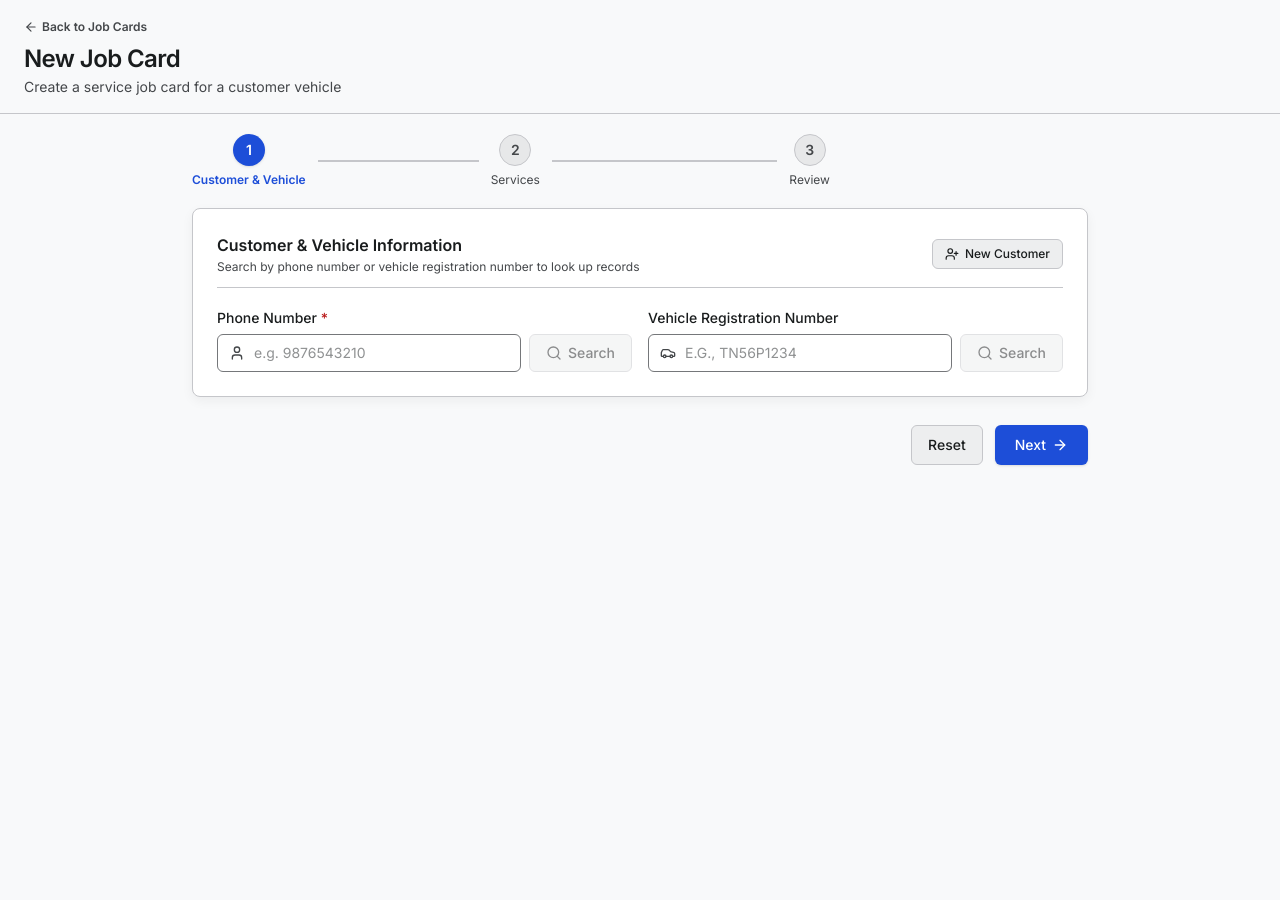
NewJobCard Component Workflow › displays create customer form when phone lookup returns no match
Type "9999999999" into the field with placeholder "e.g. 9876543210" at {"x": 369, "y": 353}, box top-left (217, 334), bottom-right (521, 372)
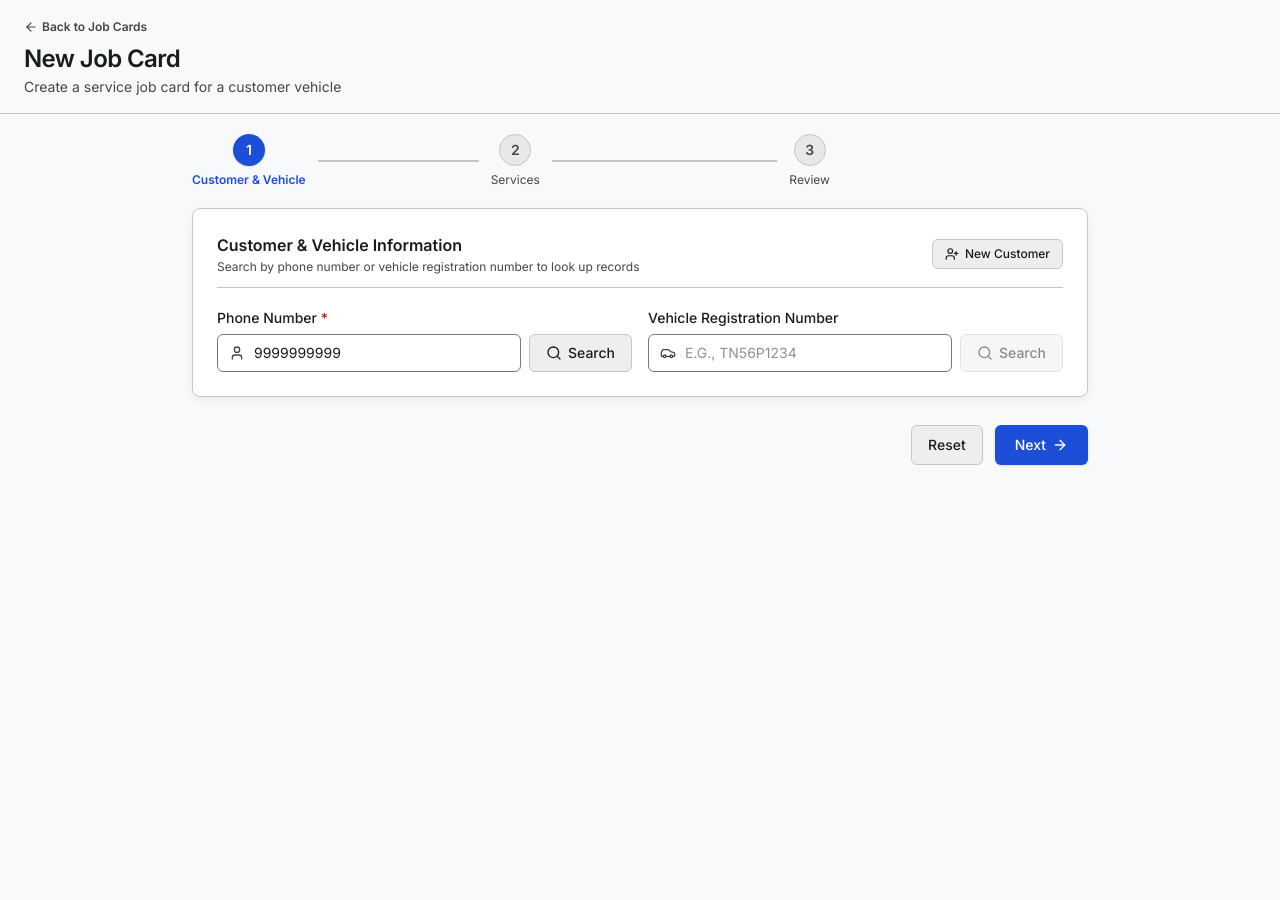
Click the 1st button "Search" at {"x": 580, "y": 353}, box top-left (529, 334), bottom-right (632, 372)
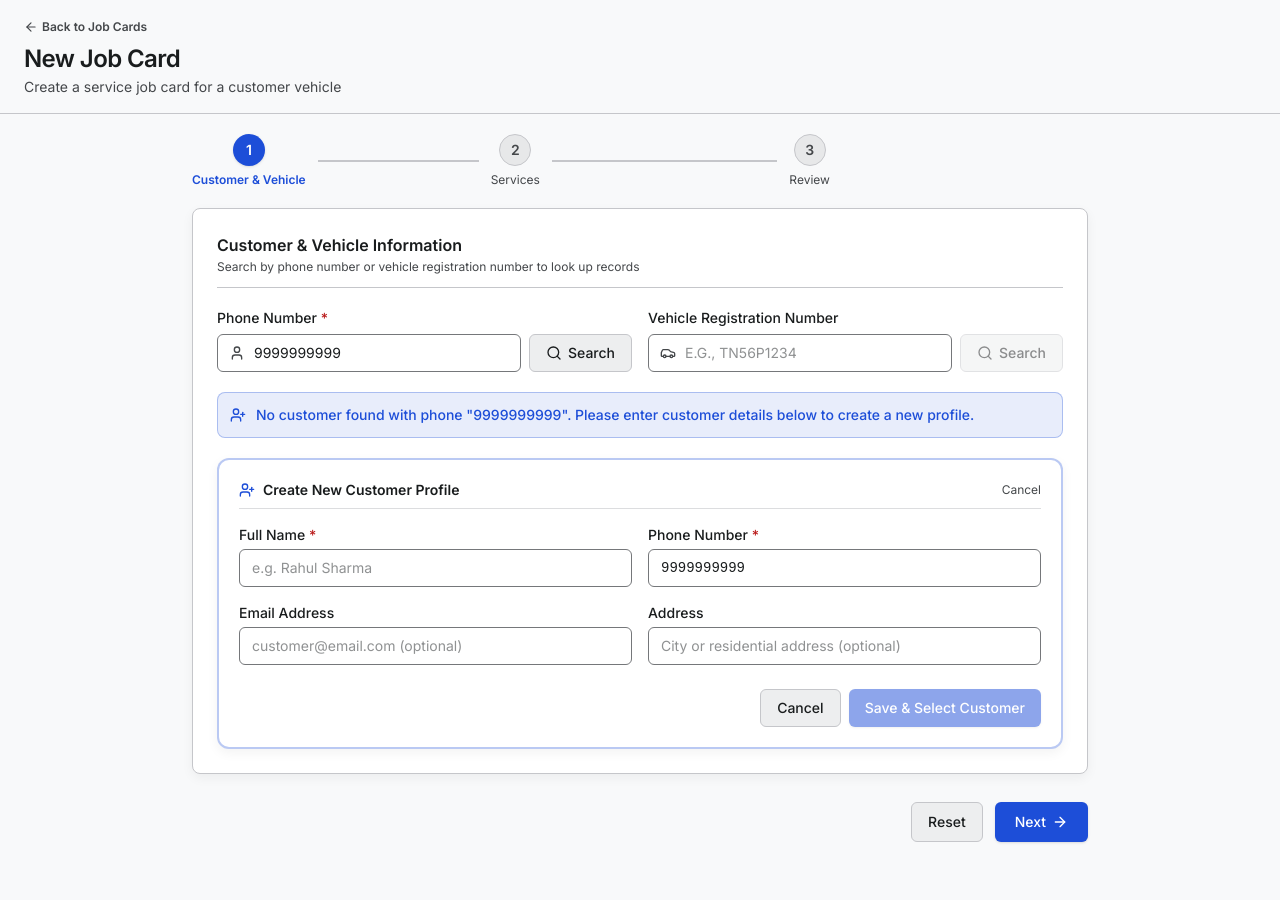
Expected: the text "No customer found with phone \"9999999999\"" is shown, top-left (256, 406), bottom-right (974, 423)
Expected: the field with placeholder "e.g. Rahul Sharma" is shown, top-left (239, 549), bottom-right (632, 587)
